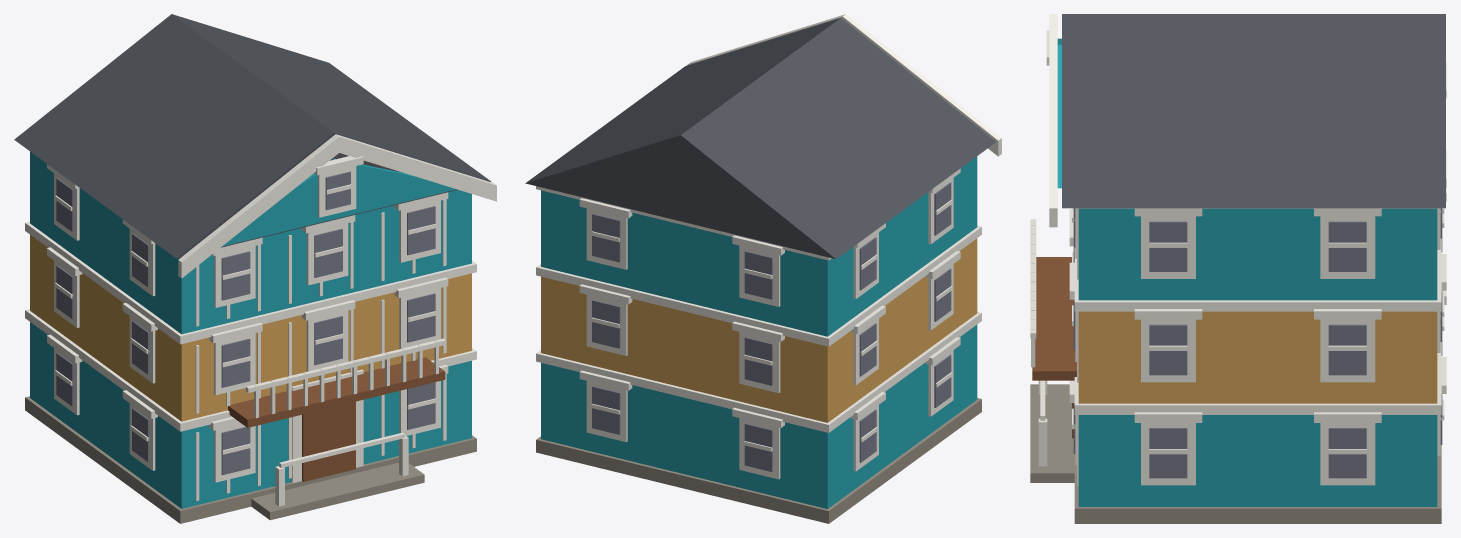
The model's file is house-1x1-3f-valparaiso-a.glb.
The picture shows the model from 3 angles, left to right: view 1: azimuth 30°, elevation 25°; view 2: azimuth 150°, elevation 25°; view 3: azimuth 270°, elevation 25°; orthographic projection. The views are drawn at different scales.
Visible parts, largest first — view 1: house-1x1-3f-valparaiso-a; view 2: house-1x1-3f-valparaiso-a; view 3: house-1x1-3f-valparaiso-a.
Boxes of the visible parts, left/top/right/bottom form: house-1x1-3f-valparaiso-a: left=14, top=14, right=496, bottom=523; house-1x1-3f-valparaiso-a: left=525, top=14, right=1001, bottom=523; house-1x1-3f-valparaiso-a: left=1030, top=14, right=1446, bottom=523.
Size of the model in its own units: 1.02 by 1.11 by 0.987.
Materials: 1 (1 with a texture image).
